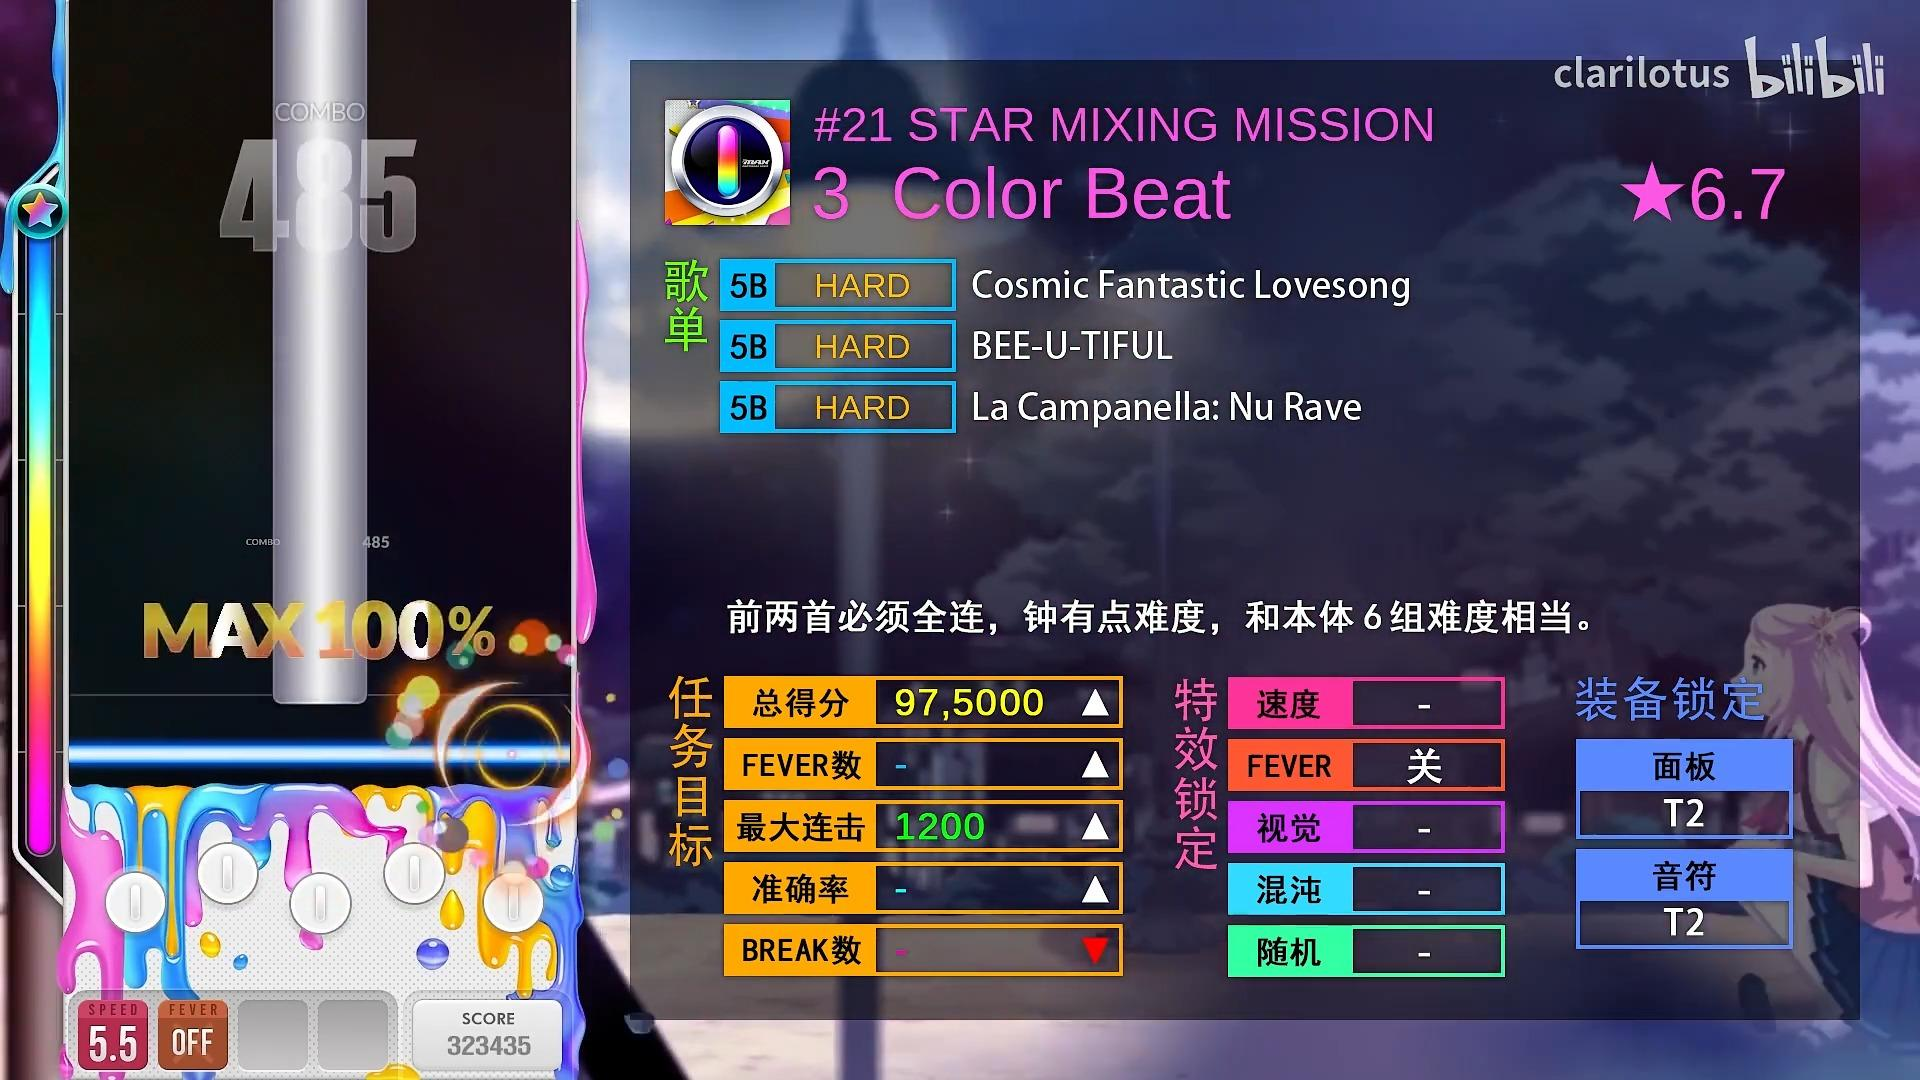hold-start: (273, 684, 368, 704)
